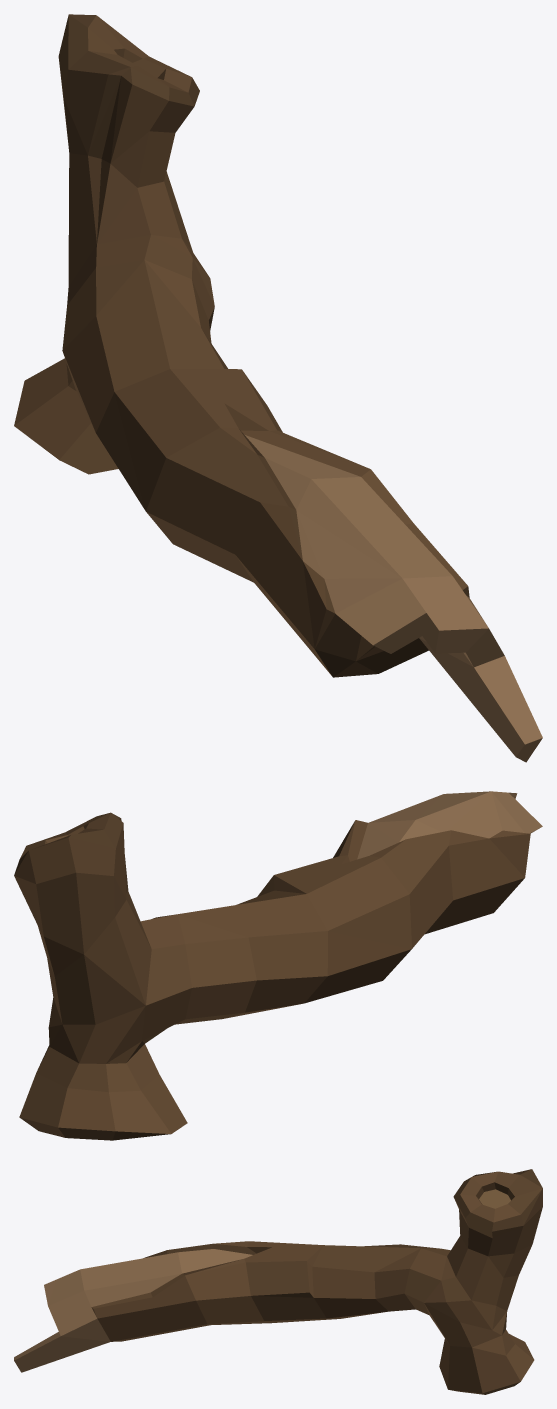
3 renders of one model, top to bottom at view 1: azimuth 30°, elevation 25°; view 2: azimuth 150°, elevation 25°; view 3: azimuth 270°, elevation 25°, orthographic. The views are drawn at different scales.
Parts seen in each view (by area): view 1: EM_Root3b_LOD0; view 2: EM_Root3b_LOD0; view 3: EM_Root3b_LOD0.
Boxes of the visible parts, x1,y1,x2,y2 form: EM_Root3b_LOD0: (14, 14, 542, 762); EM_Root3b_LOD0: (14, 791, 542, 1140); EM_Root3b_LOD0: (14, 1169, 542, 1394).
Size of what is drawn, in the model's own units: 1.48 by 2.15 by 4.8.
